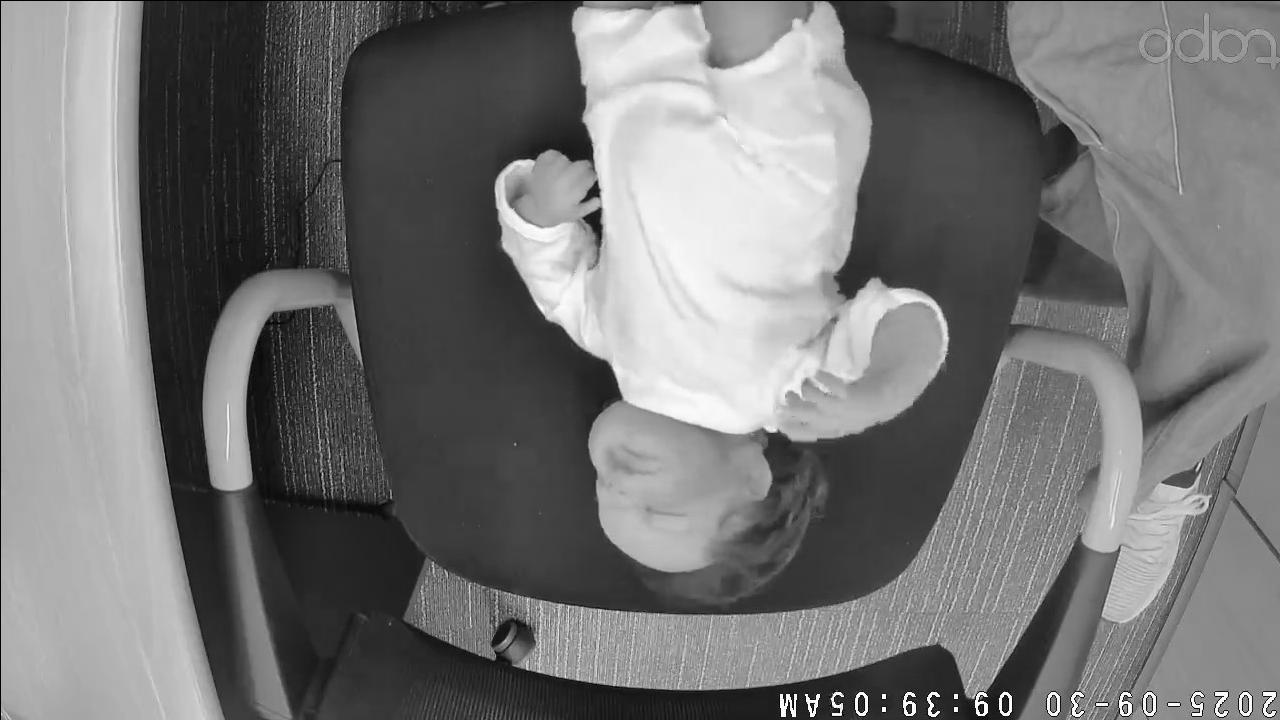hand: (528, 145, 599, 224), (776, 370, 856, 439)
